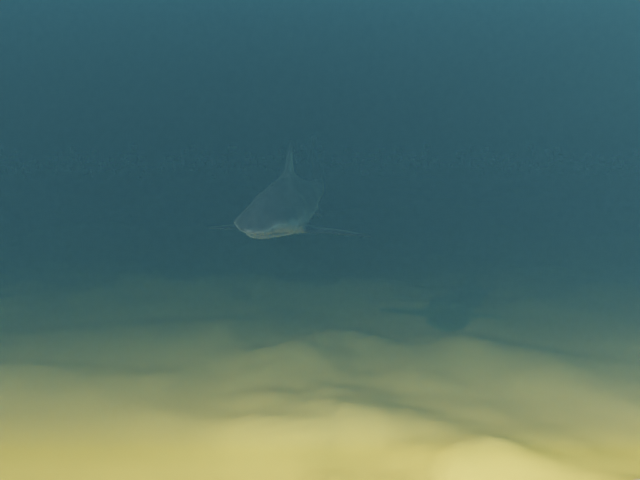Carribean Shark.001: (206, 137, 372, 239)
